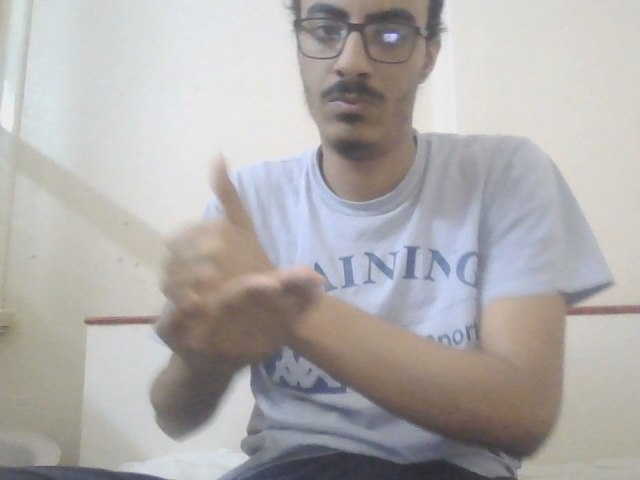Help: (144, 149, 333, 374)
